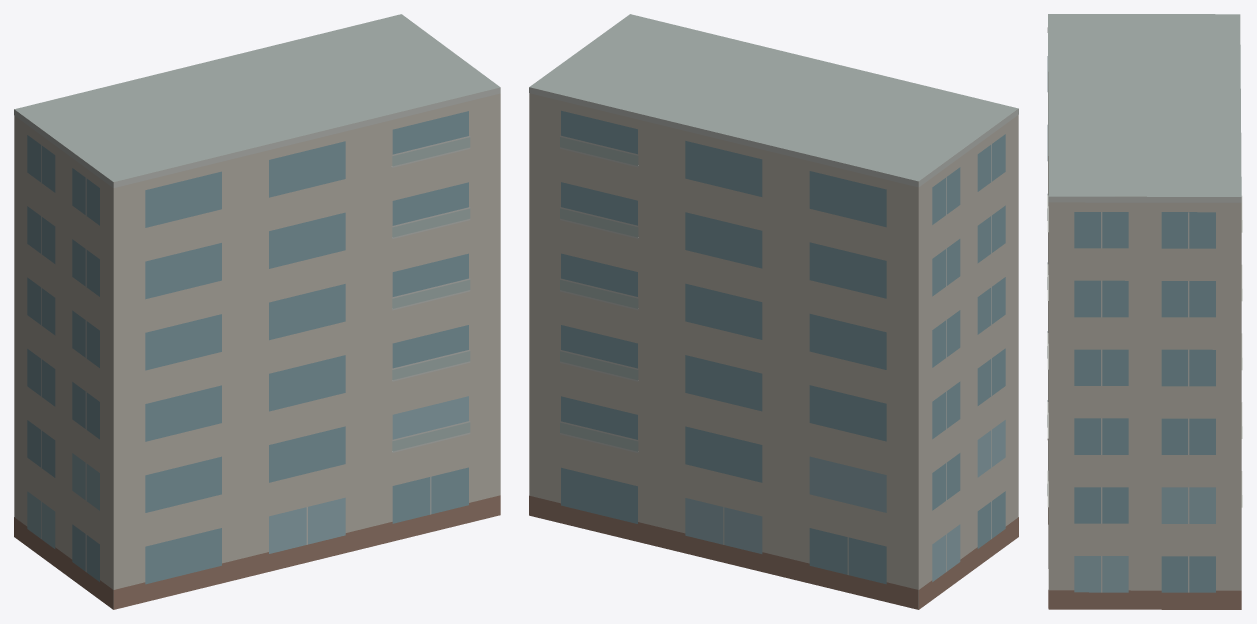
The model's file is survey-upis-32873842.glb.
The picture shows the model from 3 angles, left to right: view 1: azimuth 30°, elevation 25°; view 2: azimuth 150°, elevation 25°; view 3: azimuth 270°, elevation 25°; orthographic projection. The views are drawn at different scales.
Visible parts, largest first — view 1: survey-upis-32873842.tmp; view 2: survey-upis-32873842.tmp; view 3: survey-upis-32873842.tmp.
Part boxes in pixels (x1=…): survey-upis-32873842.tmp: x1=14, y1=14, x2=500, y2=609; survey-upis-32873842.tmp: x1=529, y1=14, x2=1018, y2=609; survey-upis-32873842.tmp: x1=1047, y1=14, x2=1242, y2=609.
Bounding box in the file's own units: 16.45 × 17.3 × 7.41.
